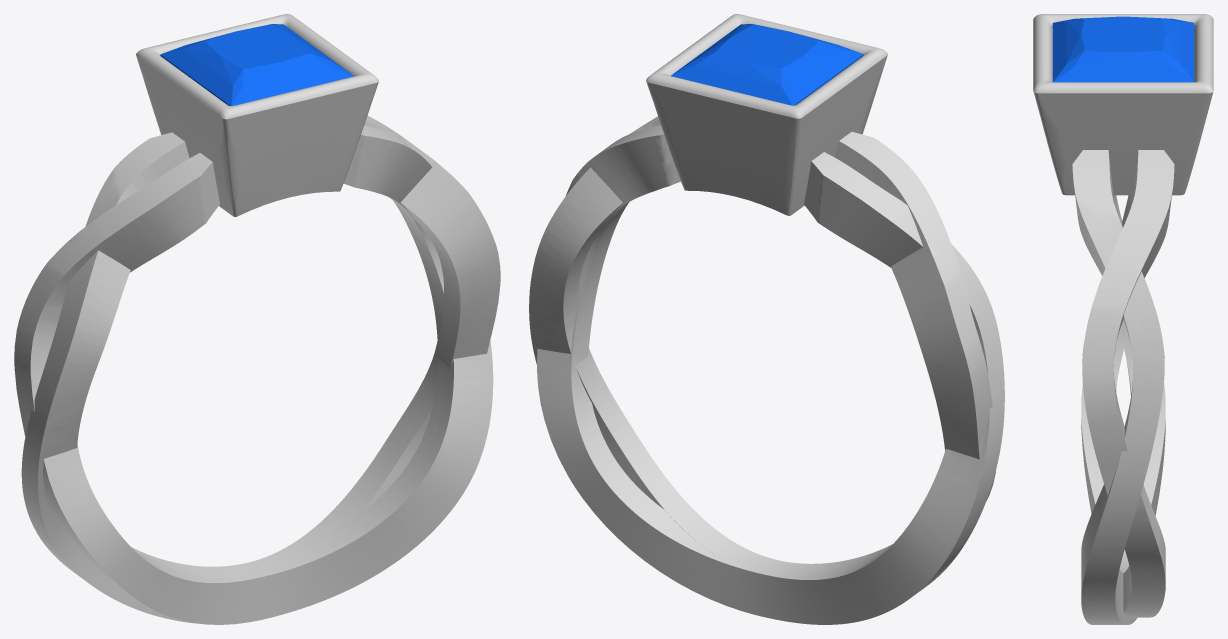
File: bluesapphire-princess-platinum-bezelset-twist-nosidestones.glb
3 renders of one model, left to right at view 1: azimuth 30°, elevation 25°; view 2: azimuth 150°, elevation 25°; view 3: azimuth 270°, elevation 25°, orthographic.
Visible parts, largest first — view 1: metal.002, stone; view 2: metal.002, stone; view 3: metal.002, stone.
Boxes of the visible parts, x1,y1,x2,y2 form: metal.002: [14, 14, 500, 624]; stone: [160, 24, 353, 105]; metal.002: [529, 14, 1004, 624]; stone: [671, 24, 863, 105]; metal.002: [1033, 14, 1213, 624]; stone: [1052, 16, 1194, 82].
Bounding box in the file's own units: 19.97 × 23.76 × 6.89.
